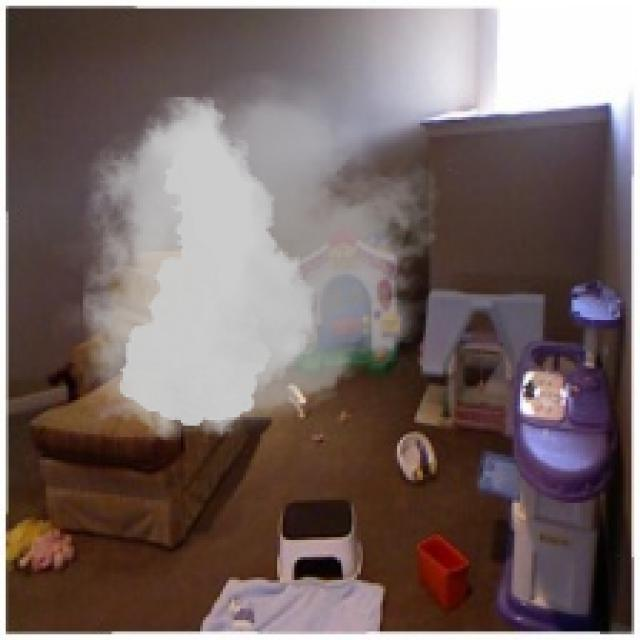smoke: (51, 71, 460, 452)
